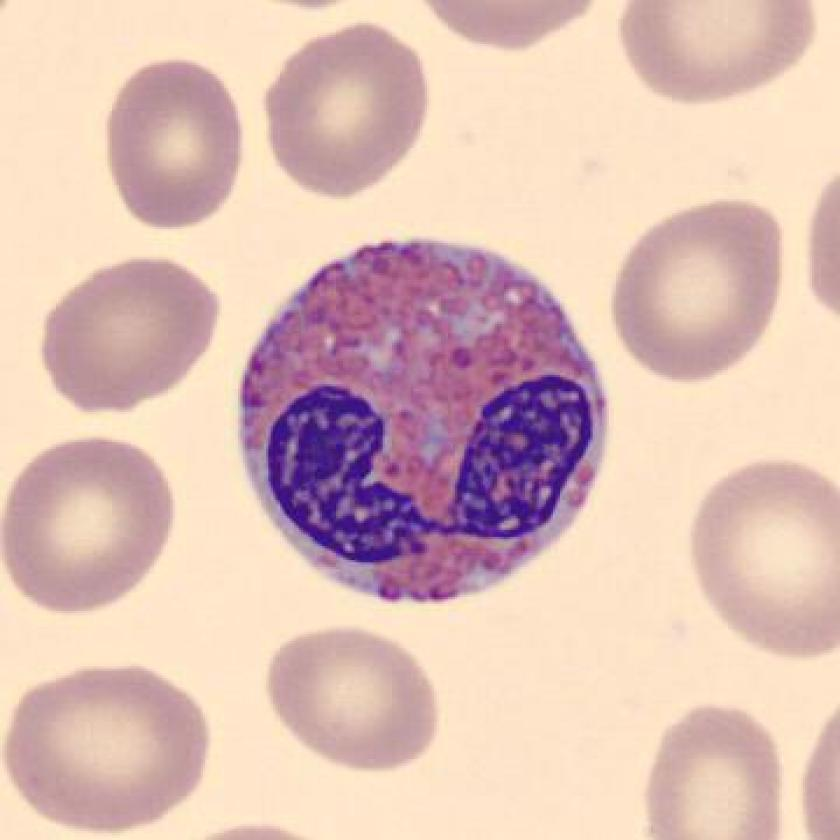eosinophil: (223, 226, 619, 617)
